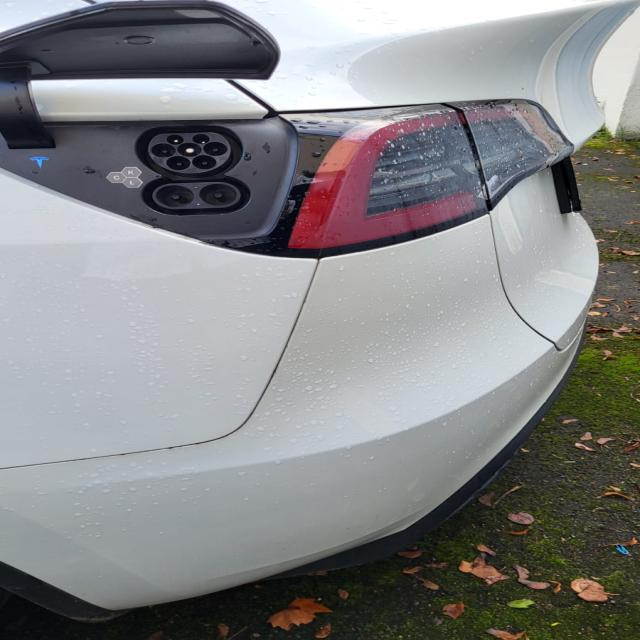inlet: (148, 132, 231, 173)
inlet-above-left: (166, 135, 183, 145)
inlet-above-right: (193, 134, 210, 144)
inlet-below-left: (166, 156, 191, 170)
inlet-below-right: (192, 155, 217, 169)
inlet-circle: (178, 143, 201, 157)
inlet-circle-left: (152, 144, 175, 157)
inlet-circle-right: (203, 142, 227, 156)
inlet-minus: (199, 184, 237, 206)
inlet-plus: (156, 185, 195, 207)
